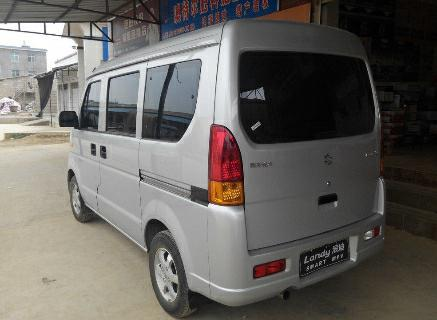铃木-浪迪: (54, 15, 399, 320)
